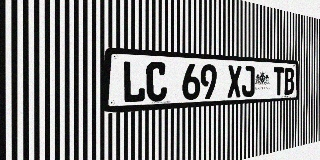6: (182, 63, 200, 100)
9: (201, 64, 217, 99)
B: (284, 67, 294, 95)
C: (146, 62, 167, 102)
J: (242, 66, 255, 97)
L: (122, 61, 145, 103)
T: (274, 67, 284, 95)
X: (227, 65, 241, 98)
